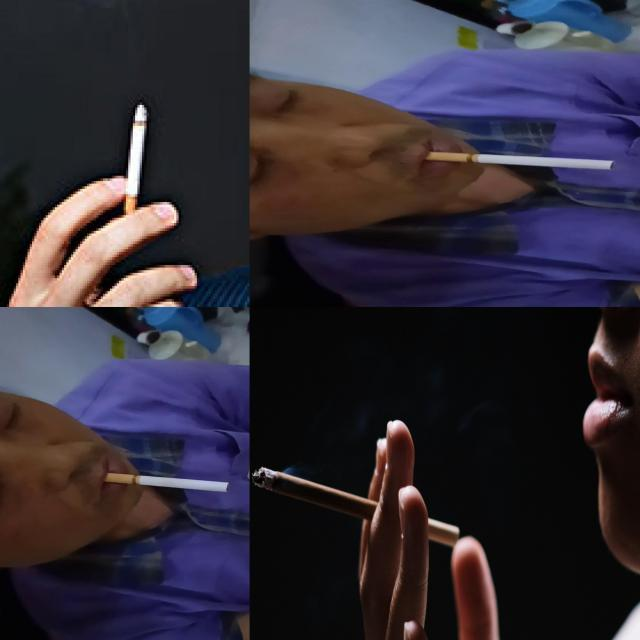smoke: (252, 464, 460, 549), (426, 152, 616, 170), (104, 473, 232, 494), (122, 97, 144, 210)
